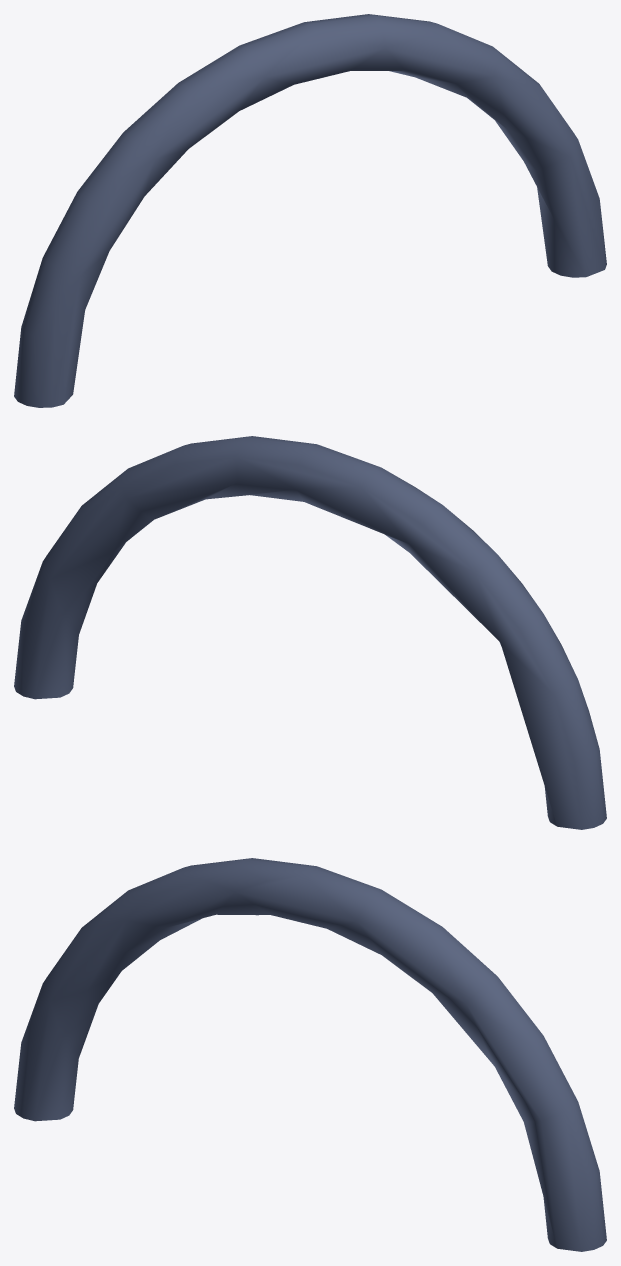
Rendered from sci-fi-broken-ring.collider.glb.
3 renders of one model, top to bottom at view 1: azimuth 30°, elevation 25°; view 2: azimuth 150°, elevation 25°; view 3: azimuth 330°, elevation 25°, orthographic.
Visible parts, largest first — view 1: broken-ring-body; view 2: broken-ring-body; view 3: broken-ring-body.
Boxes of the visible parts, x1,y1,x2,y2 form: broken-ring-body: (14, 14, 606, 407); broken-ring-body: (14, 436, 606, 829); broken-ring-body: (14, 858, 606, 1251).
Bounding box in the file's own units: 5.7 × 2.85 × 0.4871.
